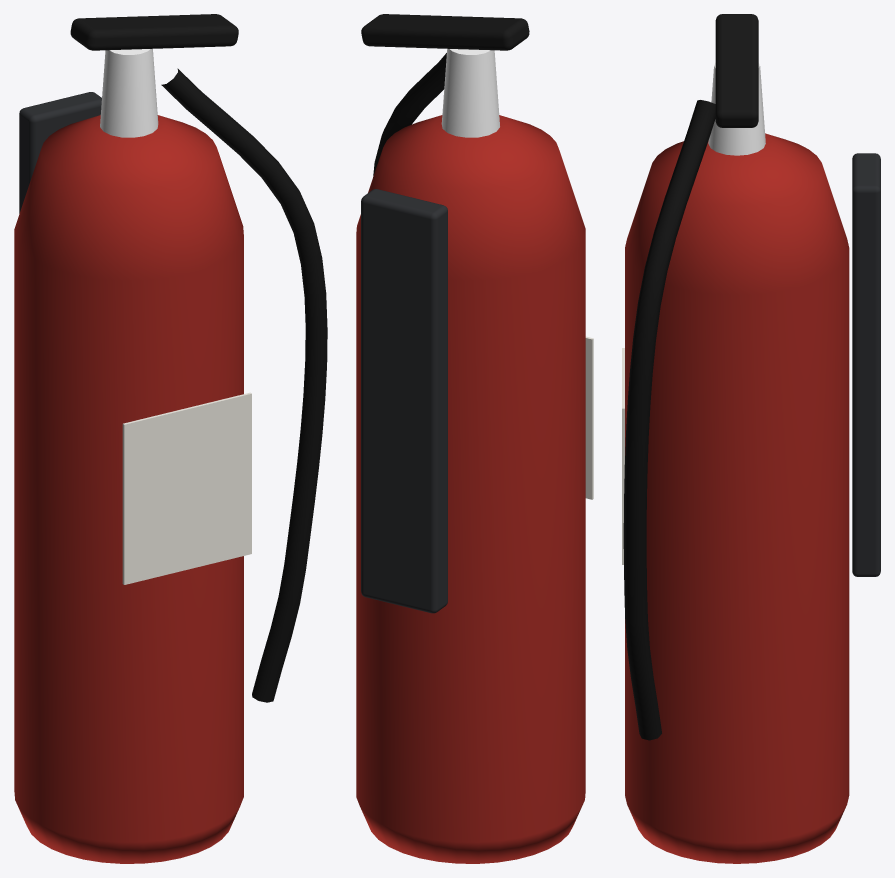
File: fire_extinguisher.glb
3 renders of one model, left to right at view 1: azimuth 30°, elevation 25°; view 2: azimuth 150°, elevation 25°; view 3: azimuth 270°, elevation 25°, orthographic. The views are drawn at different scales.
Parts seen in each view (by area): view 1: fire_extinguisher__accent_red, fire_extinguisher__label, fire_extinguisher__rubber_black, fire_extinguisher__plastic_black, fire_extinguisher__chrome, fire_extinguisher__steel_graphite; view 2: fire_extinguisher__accent_red, fire_extinguisher__steel_graphite, fire_extinguisher__plastic_black, fire_extinguisher__chrome, fire_extinguisher__rubber_black, fire_extinguisher__label; view 3: fire_extinguisher__accent_red, fire_extinguisher__rubber_black, fire_extinguisher__steel_graphite, fire_extinguisher__plastic_black, fire_extinguisher__chrome, fire_extinguisher__label.
Part boxes in pixels (x1,y1,x2,y2): fire_extinguisher__accent_red: (14, 115, 243, 863); fire_extinguisher__label: (122, 392, 251, 584); fire_extinguisher__rubber_black: (161, 68, 327, 702); fire_extinguisher__plastic_black: (70, 14, 238, 50); fire_extinguisher__chrome: (100, 48, 158, 137); fire_extinguisher__steel_graphite: (19, 92, 101, 213); fire_extinguisher__accent_red: (356, 115, 585, 863); fire_extinguisher__steel_graphite: (361, 189, 447, 613); fire_extinguisher__plastic_black: (361, 14, 529, 50); fire_extinguisher__chrome: (441, 49, 499, 137); fire_extinguisher__rubber_black: (373, 53, 446, 175); fire_extinguisher__label: (585, 336, 593, 499); fire_extinguisher__accent_red: (625, 133, 849, 863); fire_extinguisher__rubber_black: (623, 100, 715, 740); fire_extinguisher__steel_graphite: (852, 153, 880, 576); fire_extinguisher__plastic_black: (715, 14, 758, 127); fire_extinguisher__chrome: (708, 62, 765, 155); fire_extinguisher__label: (622, 348, 624, 564).
Size of the model in its own units: 0.1934 by 0.6033 by 0.18.
